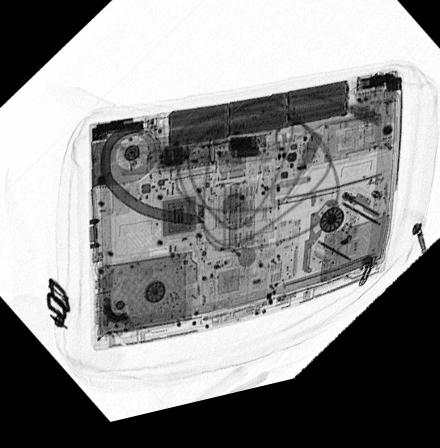Baton: (117, 143, 288, 180)
